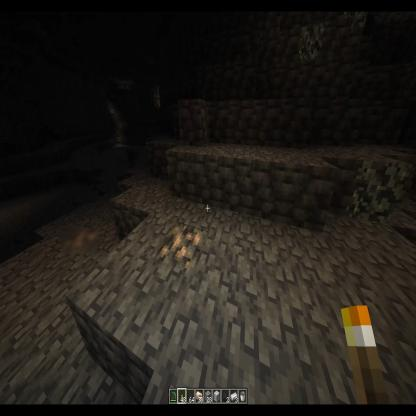iron ore: (155, 223, 208, 275), (61, 228, 98, 254)
